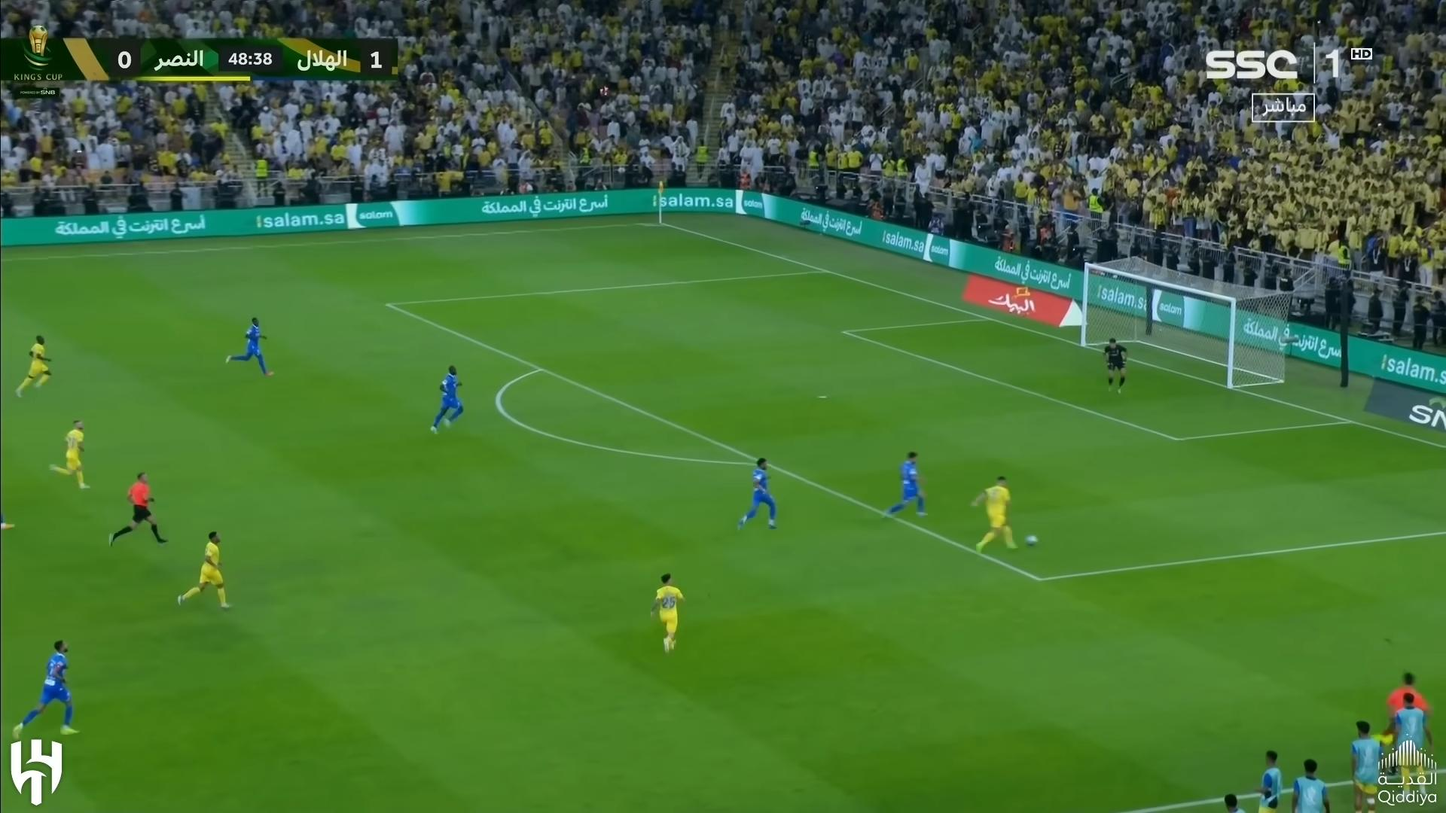Goalkeeper: (1104, 339, 1127, 391)
Player: (14, 641, 76, 735), (178, 531, 232, 608), (972, 474, 1017, 553), (226, 316, 274, 378), (737, 457, 777, 531), (884, 452, 926, 518), (650, 573, 683, 651), (51, 421, 88, 488), (429, 364, 463, 435), (14, 336, 51, 398)
ball: (1025, 534, 1039, 548)
referee: (107, 471, 167, 545), (1390, 672, 1429, 711)
